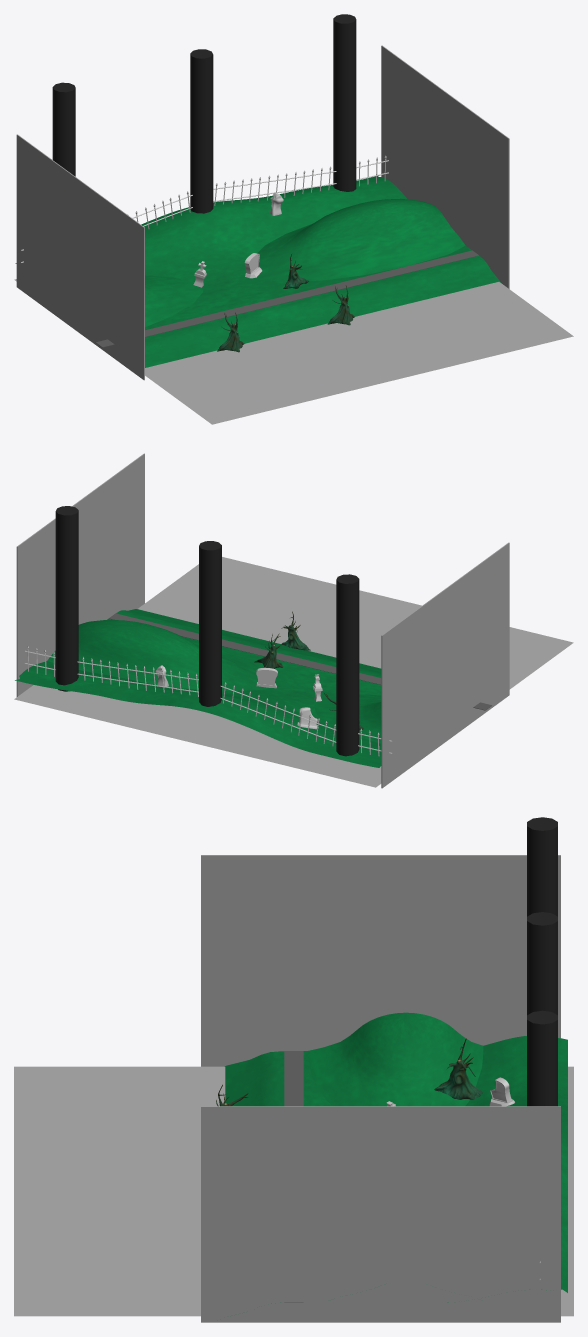
The model's file is Fight_Arena.fbx.
3 renders of one model, top to bottom at view 1: azimuth 30°, elevation 25°; view 2: azimuth 150°, elevation 25°; view 3: azimuth 270°, elevation 25°, orthographic. The views are drawn at different scales.
Visible parts, largest first — view 1: pPlane4, pPlane3, pCube4, pCube3, pSphere2, pCylinder2, pCylinder1, WalkWay, pCylinder3, pSphere1; view 2: pPlane4, pCube4, pCube3, pPlane3, pSphere2, pCylinder3, pCylinder2, pCylinder1, WalkWay, pSphere1; view 3: pCube3, pCube4, pPlane4, pSphere1, pPlane3, pCylinder1, pCylinder3, pCylinder2, WalkWay, WGY_GrandTree4.
Boxes of the visible parts, x1,y1,x2,y2 form: pPlane4: [14, 279, 573, 424]; pPlane3: [15, 175, 500, 367]; pCube4: [16, 134, 144, 380]; pCube3: [381, 45, 509, 288]; pSphere2: [253, 198, 465, 281]; pCylinder2: [333, 14, 356, 191]; pCylinder1: [190, 49, 213, 213]; WalkWay: [95, 250, 478, 347]; pCylinder3: [52, 82, 75, 176]; pSphere1: [145, 275, 203, 327]; pPlane4: [14, 557, 573, 787]; pCube4: [381, 542, 509, 788]; pCube3: [16, 453, 144, 696]; pPlane3: [15, 609, 381, 767]; pSphere2: [47, 619, 275, 691]; pCylinder3: [336, 574, 359, 756]; pCylinder2: [55, 506, 78, 691]; pCylinder1: [199, 541, 221, 706]; WalkWay: [109, 613, 491, 710]; pSphere1: [313, 694, 381, 743]; pCube3: [201, 1106, 560, 1322]; pCube4: [201, 855, 560, 1066]; pPlane4: [14, 1066, 573, 1316]; pSphere1: [307, 1012, 483, 1106]; pPlane3: [224, 1036, 567, 1303]; pCylinder1: [527, 912, 557, 1015]; pCylinder3: [527, 817, 557, 916]; pCylinder2: [527, 1010, 557, 1106]; WalkWay: [284, 1051, 303, 1302]; WGY_GrandTree4: [434, 1038, 482, 1099].
Size of the model in its own units: 20758 by 10195 by 18825.
